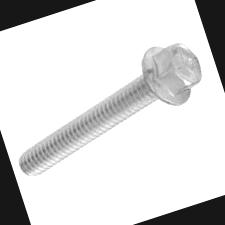hexagonal: (147, 38, 206, 100)
